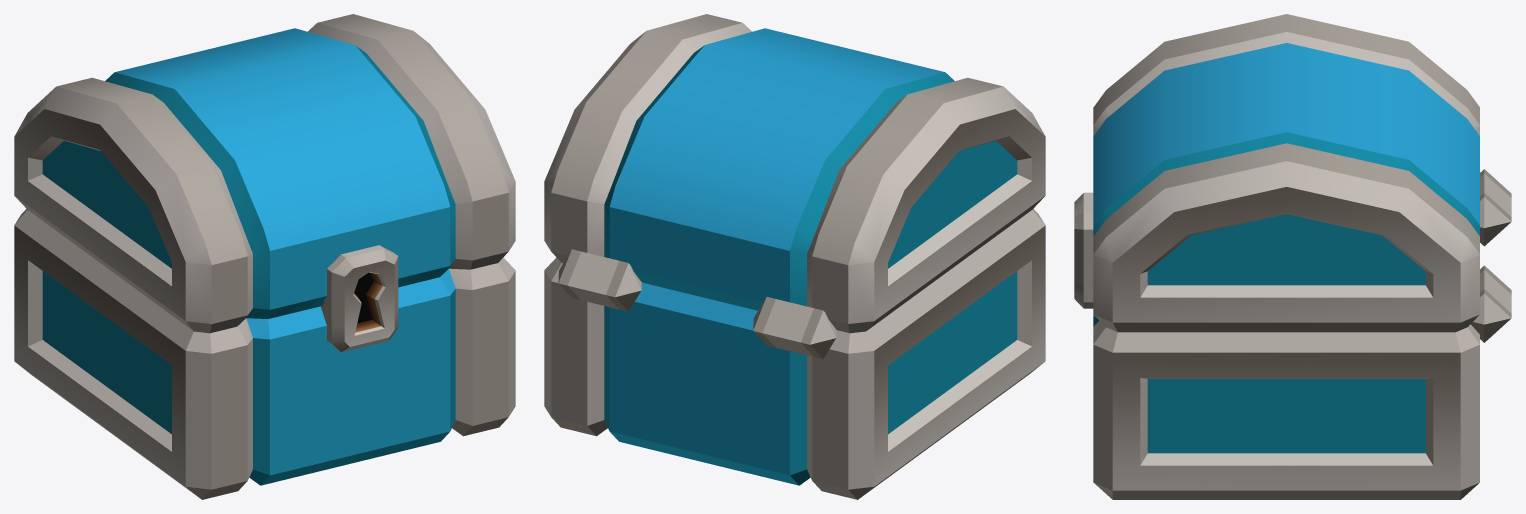
File: m_deco_chestB_closed.FBX
3 renders of one model, left to right at view 1: azimuth 30°, elevation 25°; view 2: azimuth 150°, elevation 25°; view 3: azimuth 270°, elevation 25°, orthographic.
Parts seen in each view (by area): view 1: m_deco_chestB_closed; view 2: m_deco_chestB_closed; view 3: m_deco_chestB_closed.
Part boxes in pixels (left/top/right/bottom): m_deco_chestB_closed: left=14, top=14, right=515, bottom=499; m_deco_chestB_closed: left=544, top=14, right=1045, bottom=499; m_deco_chestB_closed: left=1074, top=14, right=1511, bottom=499.
Bounding box in the file's own units: 2 × 1.93 × 2.26.
